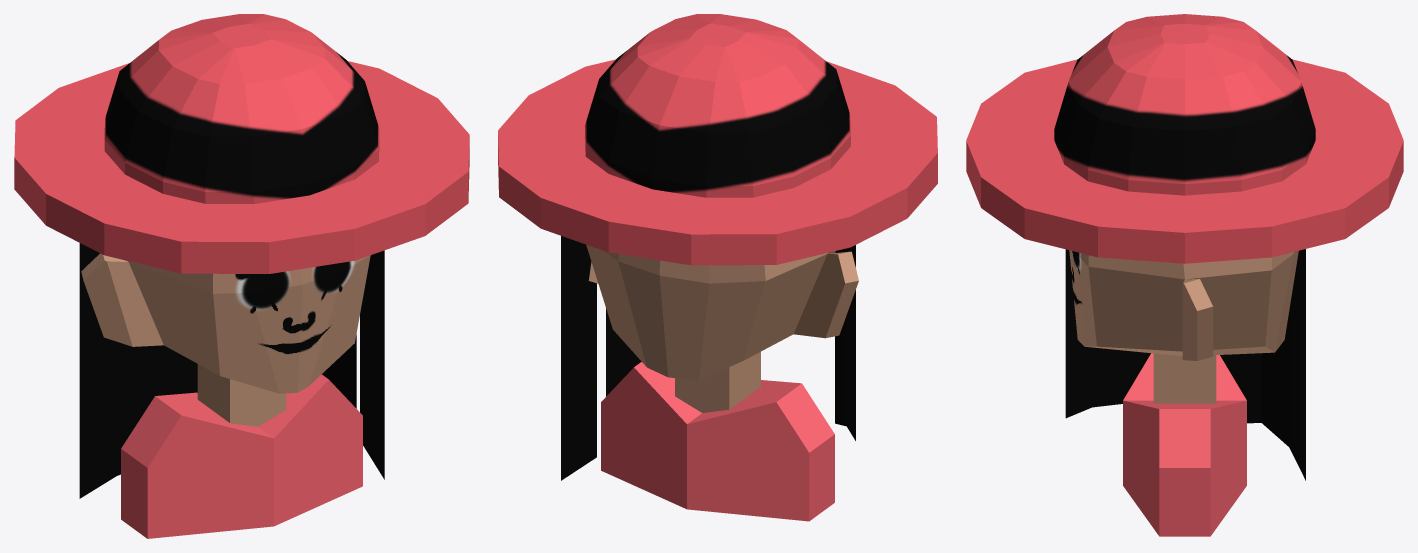
File: lady.glb
The picture shows the model from 3 angles, left to right: view 1: azimuth 30°, elevation 25°; view 2: azimuth 150°, elevation 25°; view 3: azimuth 270°, elevation 25°; orthographic projection. The views are drawn at different scales.
Visible parts, largest first — view 1: Plane.002, Plane.004, Plane, Plane.003, Plane.001; view 2: Plane.002, Plane.004, Plane, Plane.003, Plane.001; view 3: Plane.002, Plane, Plane.004, Plane.003, Plane.001.
Boxes of the visible parts, box(x1,y1,x2,y2) form: Plane.002: box(14, 14, 469, 273); Plane.004: box(121, 374, 362, 538); Plane: box(81, 253, 370, 393); Plane.003: box(79, 243, 384, 498); Plane.001: box(197, 364, 286, 426); Plane.002: box(498, 14, 937, 265); Plane.004: box(601, 362, 834, 521); Plane: box(586, 245, 858, 380); Plane.003: box(561, 236, 855, 480); Plane.001: box(675, 351, 760, 412); Plane.002: box(966, 14, 1403, 263); Plane: box(1069, 250, 1298, 360); Plane.004: box(1123, 353, 1246, 536); Plane.003: box(1065, 249, 1305, 480); Plane.001: box(1153, 353, 1216, 403).
Bounding box in the file's own units: 2.34 × 2.66 × 2.34.
5 materials, 2 textured.
